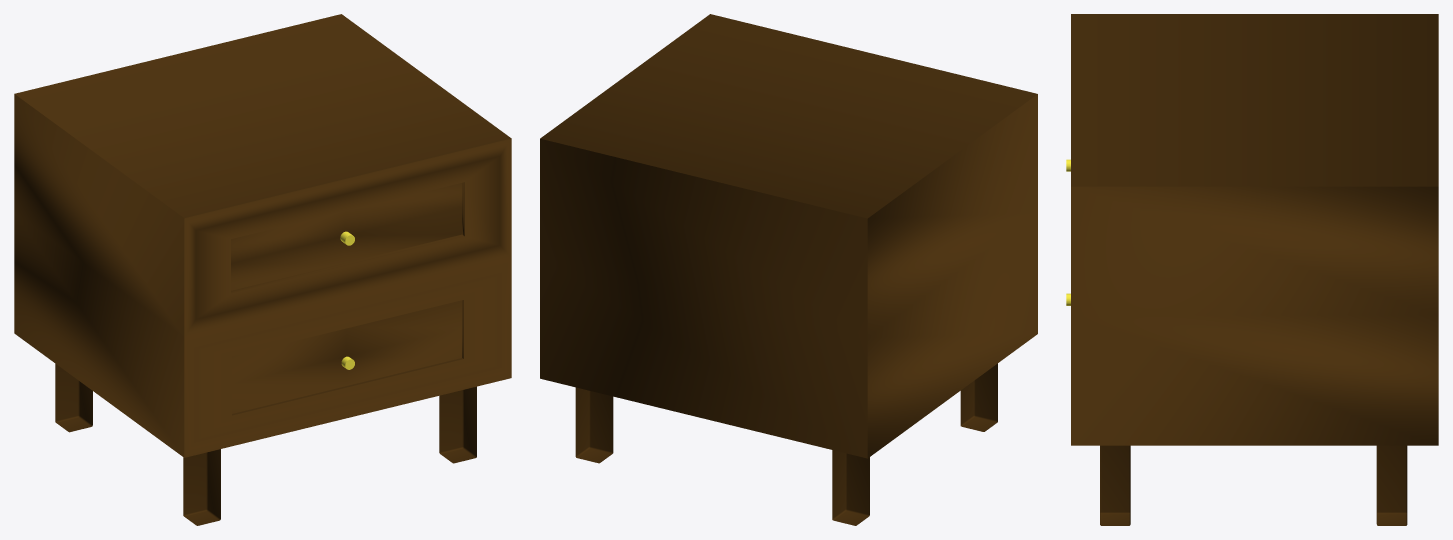
File: Metcalf_Nightstand_02.fbx
The picture shows the model from 3 angles, left to right: view 1: azimuth 30°, elevation 25°; view 2: azimuth 150°, elevation 25°; view 3: azimuth 270°, elevation 25°; orthographic projection. The views are drawn at different scales.
Visible parts, largest first — view 1: Body, Leg3, Leg2, Leg4; view 2: Body, Leg1, Leg4, Leg2; view 3: Body, Leg1, Leg3.
Part boxes in pixels (<box>): Body: <box>14,14,511,457</box>; Leg3: <box>439,386,476,463</box>; Leg2: <box>183,449,220,525</box>; Leg4: <box>55,364,92,432</box>; Body: <box>540,14,1037,458</box>; Leg1: <box>575,387,613,463</box>; Leg4: <box>832,450,869,525</box>; Leg2: <box>960,363,997,431</box>; Body: <box>1071,14,1438,445</box>; Leg1: <box>1376,445,1407,525</box>; Leg3: <box>1100,445,1130,525</box>.
Bounding box in the file's own units: 610 × 578 × 556.
